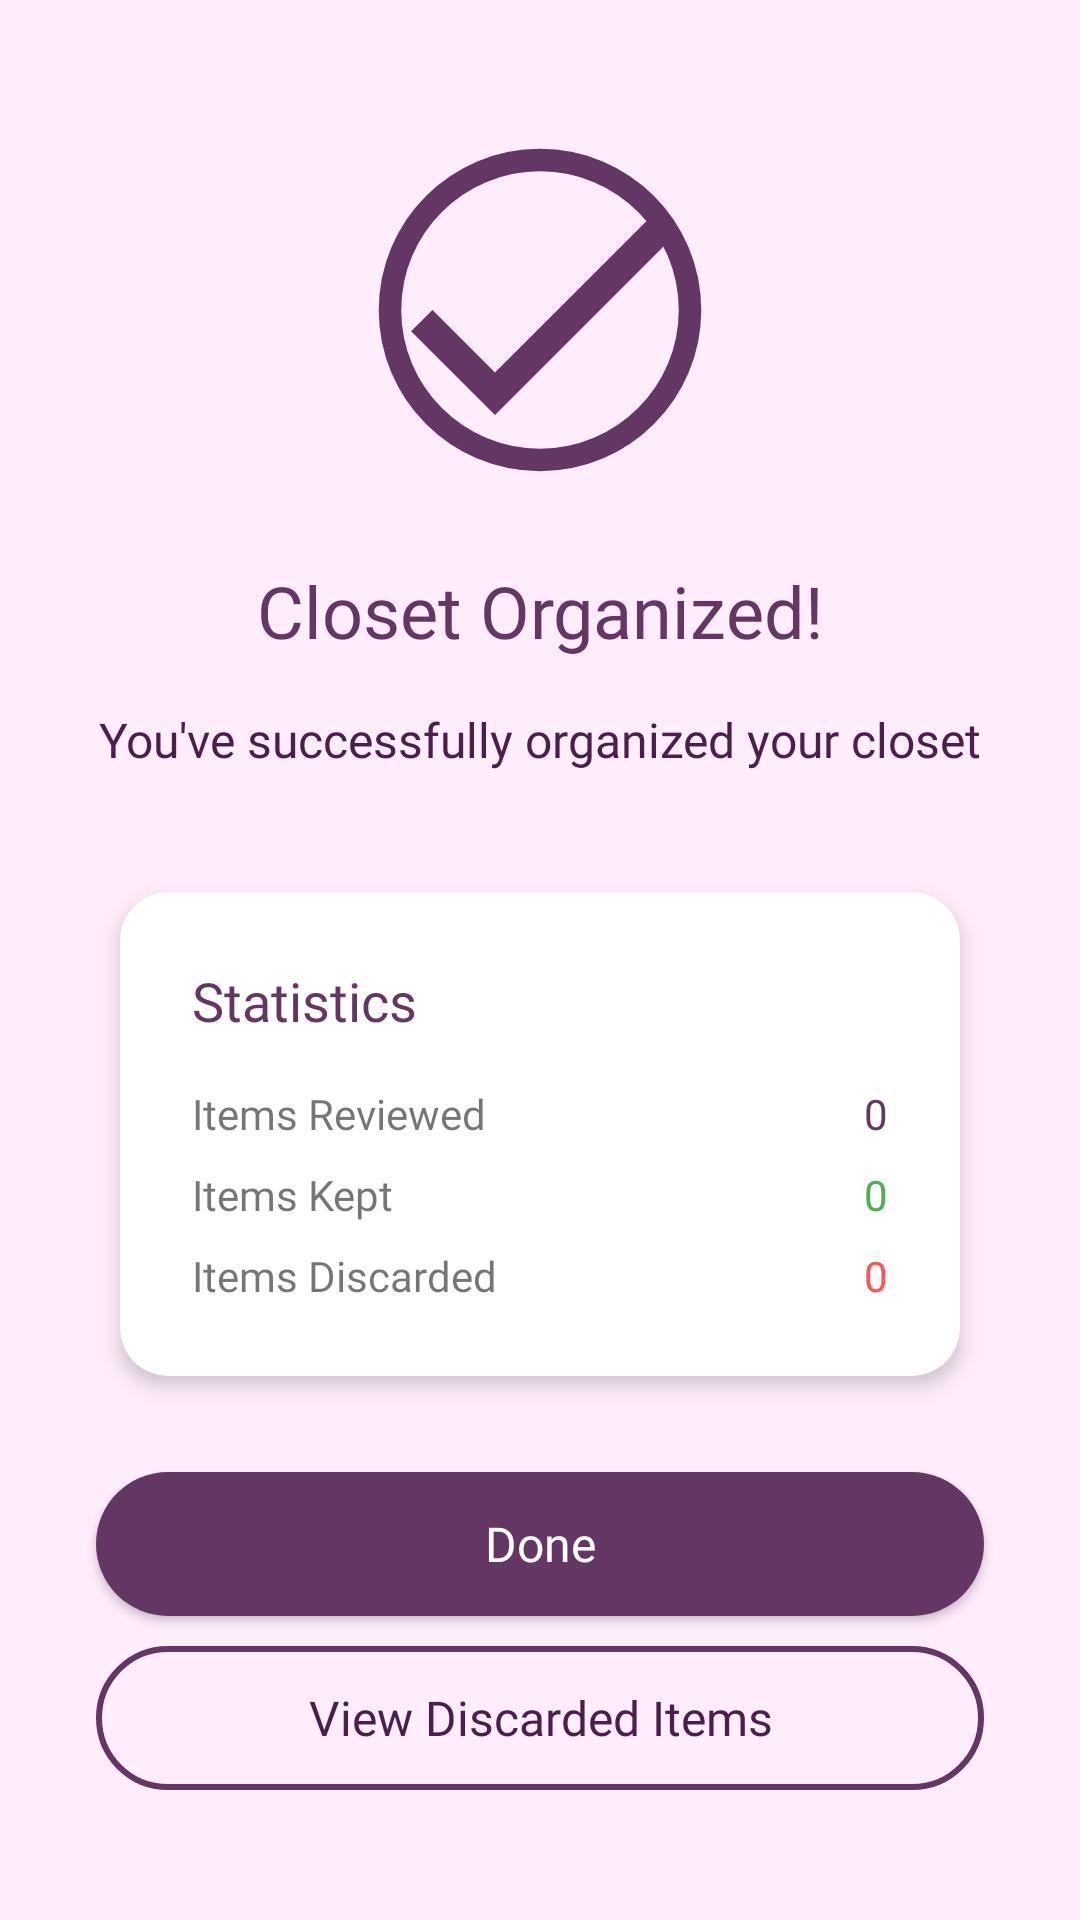

Icons on this 1080 x 1920 Android screen, each with its box as (x1, y1, x2, y2):
Complete: (378, 148, 702, 472)
